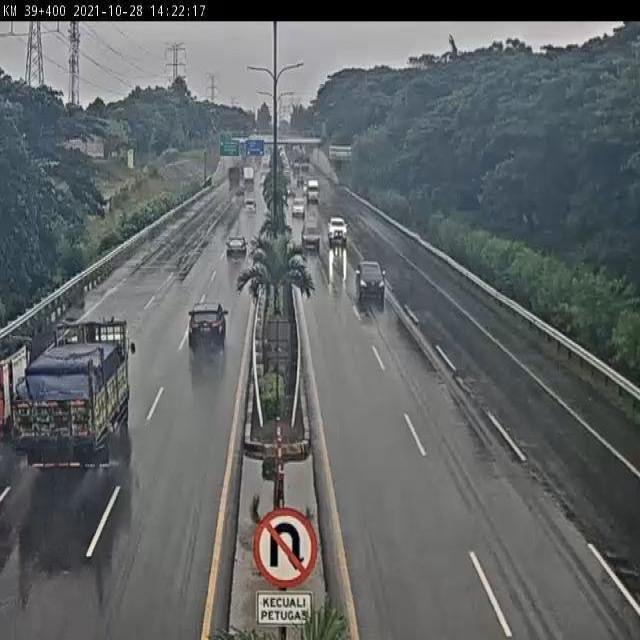car: (190, 300, 228, 343), (355, 259, 386, 300), (299, 220, 321, 248), (326, 215, 347, 244), (228, 235, 247, 260)
truck: (12, 319, 131, 468)
